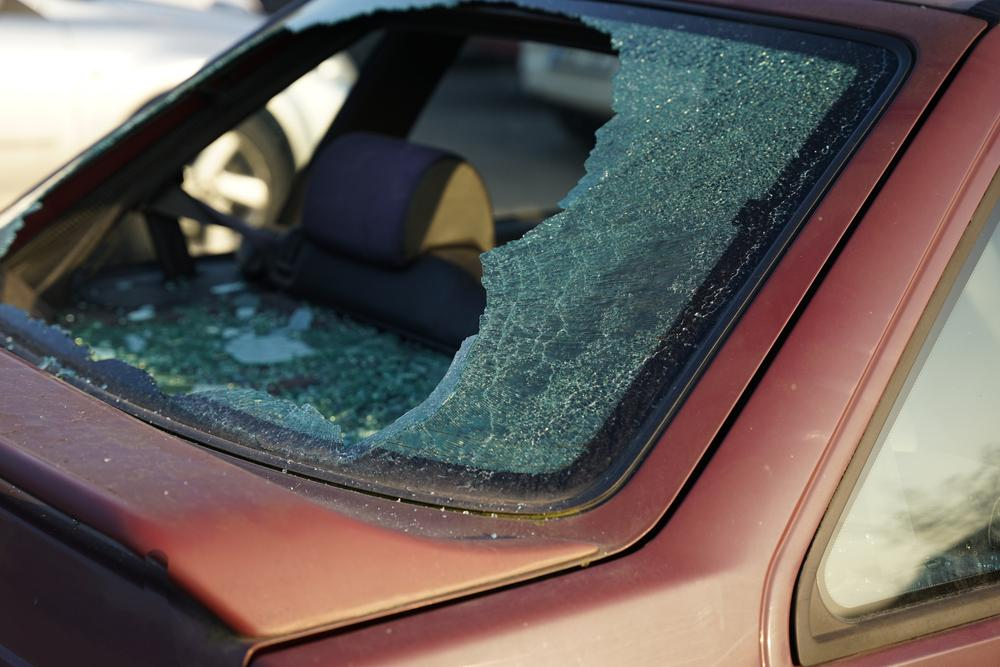glass shatter: (0, 0, 897, 503)
